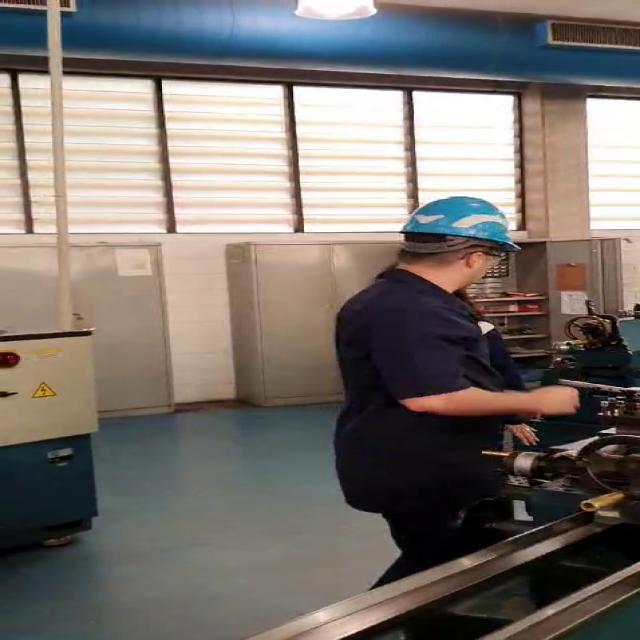oculos-epi: (471, 251, 502, 268)
